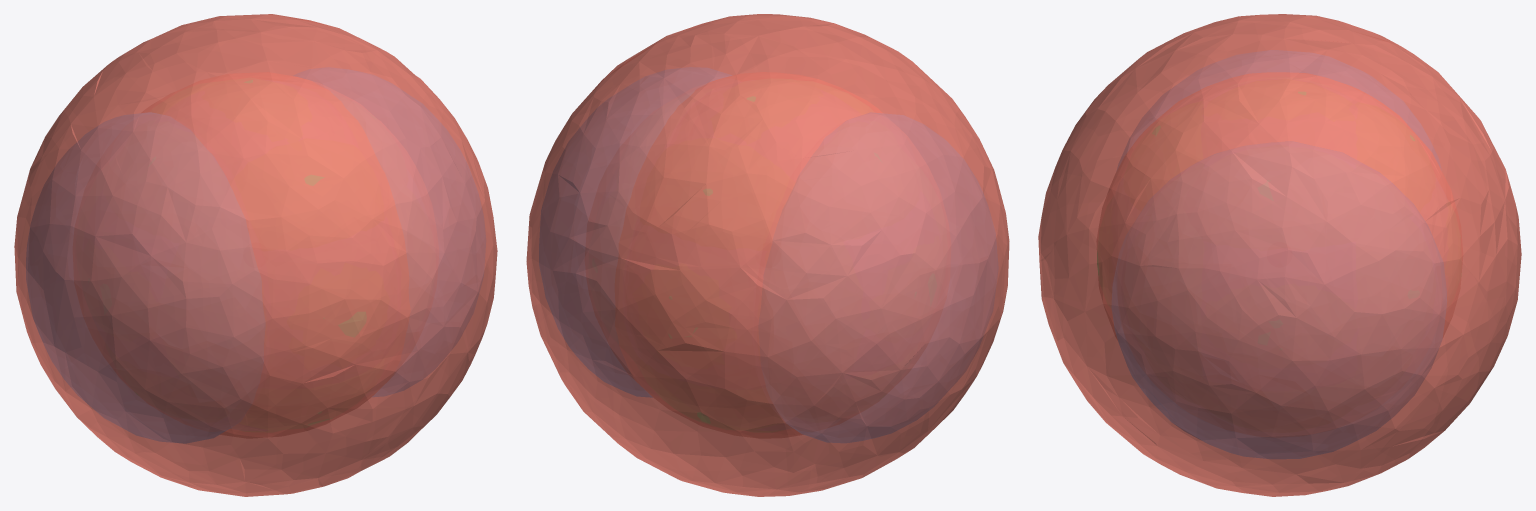
The model's file is orbital.glb.
The picture shows the model from 3 angles, left to right: view 1: azimuth 30°, elevation 25°; view 2: azimuth 150°, elevation 25°; view 3: azimuth 270°, elevation 25°; orthographic projection.
Parts seen in each view (by area): view 1: Ga_n4_s_ml0_node, Ga_n3_s_ml0_node, Ga_n4_p_ml1_node; view 2: Ga_n4_s_ml0_node, Ga_n3_s_ml0_node, Ga_n4_p_ml1_node; view 3: Ga_n4_s_ml0_node, Ga_n3_s_ml0_node, Ga_n4_p_ml1_node.
Part boxes in pixels (x1,y1,x2,y2): Ga_n4_s_ml0_node: [14, 14, 497, 496]; Ga_n3_s_ml0_node: [142, 72, 410, 438]; Ga_n4_p_ml1_node: [26, 67, 485, 442]; Ga_n4_s_ml0_node: [526, 14, 1009, 496]; Ga_n3_s_ml0_node: [615, 72, 881, 438]; Ga_n4_p_ml1_node: [539, 67, 997, 442]; Ga_n4_s_ml0_node: [1038, 14, 1521, 496]; Ga_n3_s_ml0_node: [1096, 72, 1462, 339]; Ga_n4_p_ml1_node: [1112, 50, 1446, 458].
Size of the model in its own units: 2.06 by 2.07 by 2.06.
